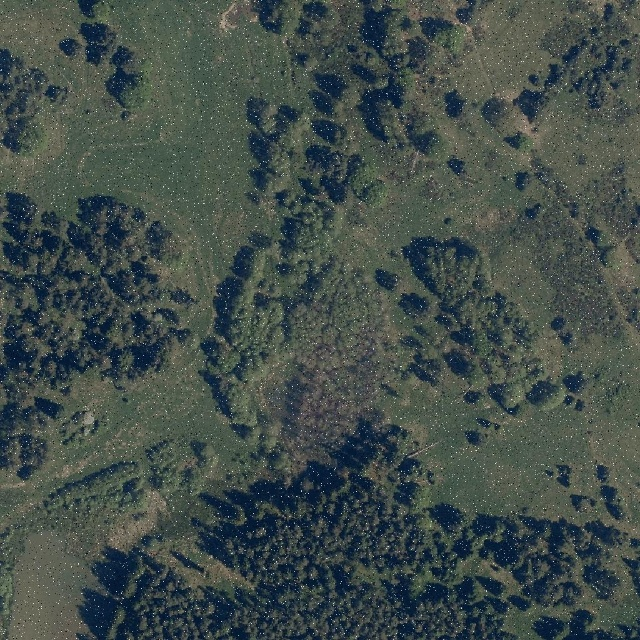vegetation: (205, 0, 583, 466), (105, 424, 640, 640), (0, 193, 197, 479), (488, 0, 640, 155), (42, 435, 216, 513), (56, 0, 149, 119), (0, 38, 65, 154)
